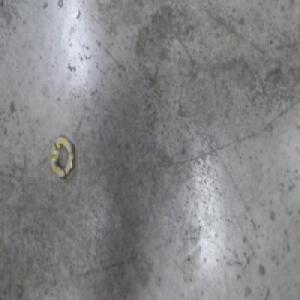Nut: (48, 132, 76, 179)
